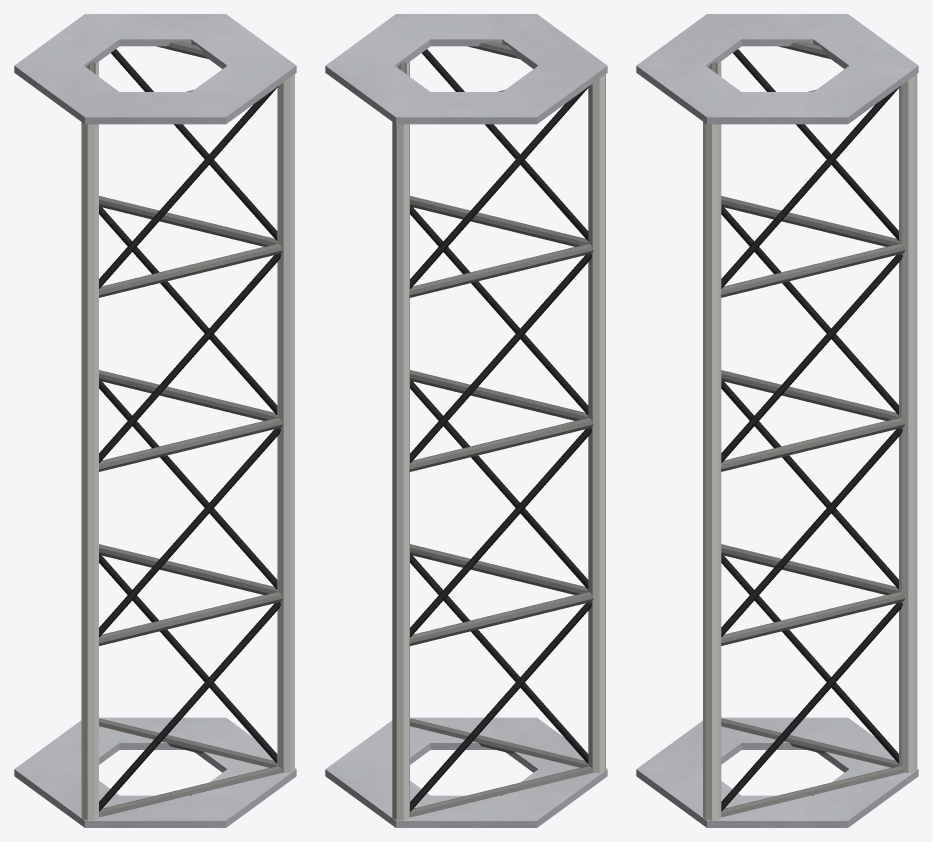
File: ax_gear_09_tri_truss_s.glb
3 renders of one model, left to right at view 1: azimuth 30°, elevation 25°; view 2: azimuth 150°, elevation 25°; view 3: azimuth 270°, elevation 25°, orthographic.
Visible parts, largest first — view 1: end_frames, longerons, battens, diagonals; view 2: end_frames, longerons, battens, diagonals; view 3: end_frames, longerons, battens, diagonals.
Boxes of the visible parts, left/top/right/bottom form: end_frames: left=14, top=14, right=296, bottom=827; longerons: left=81, top=62, right=294, bottom=820; battens: left=86, top=41, right=282, bottom=817; diagonals: left=99, top=49, right=281, bottom=811; end_frames: left=325, top=14, right=607, bottom=827; longerons: left=392, top=62, right=605, bottom=820; battens: left=397, top=41, right=593, bottom=817; diagonals: left=409, top=49, right=591, bottom=811; end_frames: left=636, top=14, right=918, bottom=827; longerons: left=703, top=61, right=917, bottom=822; battens: left=708, top=41, right=905, bottom=817; diagonals: left=721, top=49, right=902, bottom=811.
Size of the model in its own units: 0.936 by 3 by 1.08.
Materials: 4 (2 with a texture image).
